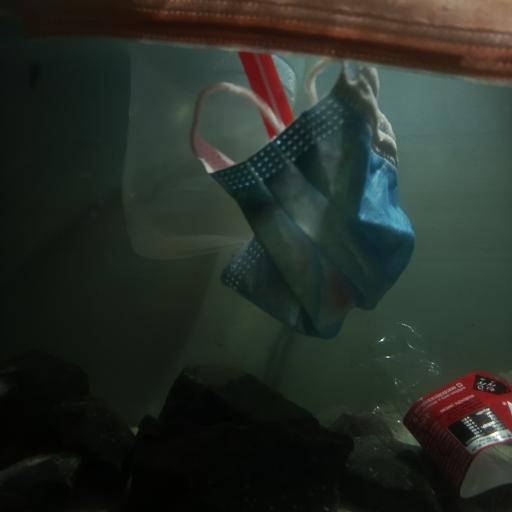mask: (186, 63, 416, 341), (0, 0, 512, 89)
plastic_bottle: (347, 323, 512, 512)
plastic_straw: (235, 42, 289, 136)
